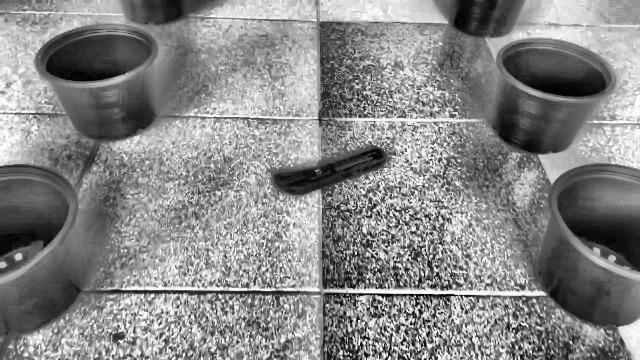pot: (536, 164, 640, 330), (490, 38, 618, 155), (0, 166, 87, 337), (35, 24, 159, 142)
